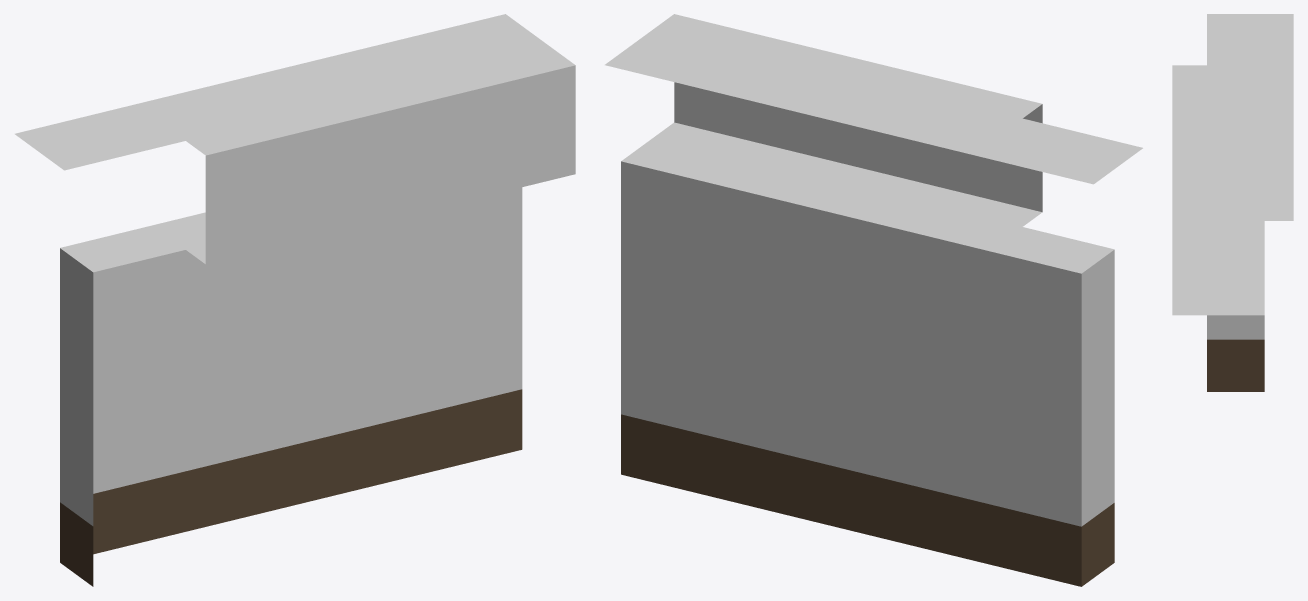
Rendered from M_WallHT375White80-3.fbx.
3 renders of one model, left to right at view 1: azimuth 30°, elevation 25°; view 2: azimuth 150°, elevation 25°; view 3: azimuth 270°, elevation 25°, orthographic. The views are drawn at different scales.
Visible parts, largest first — view 1: M_WallHT375White80-3; view 2: M_WallHT375White80-3; view 3: M_WallHT375White80-3.
Boxes of the visible parts, <box> form: M_WallHT375White80-3: <box>15,14,575,586</box>; M_WallHT375White80-3: <box>605,14,1142,586</box>; M_WallHT375White80-3: <box>1172,14,1293,391</box>.
Size of the model in its own units: 425 by 105 by 350.
